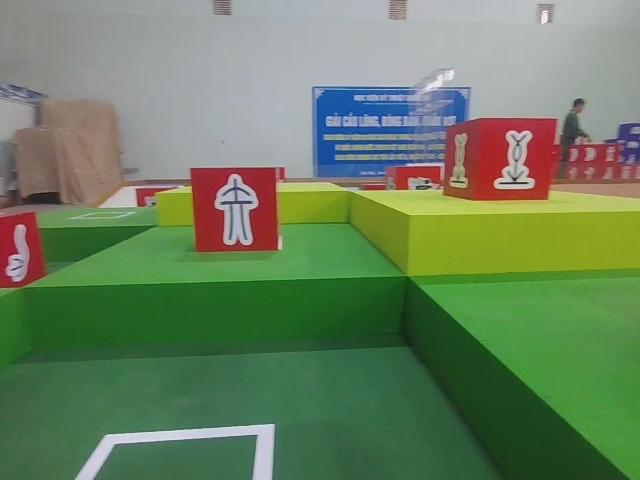R2 Fake: (188, 163, 282, 255)
R2 Real: (440, 115, 562, 204), (2, 205, 50, 298)
